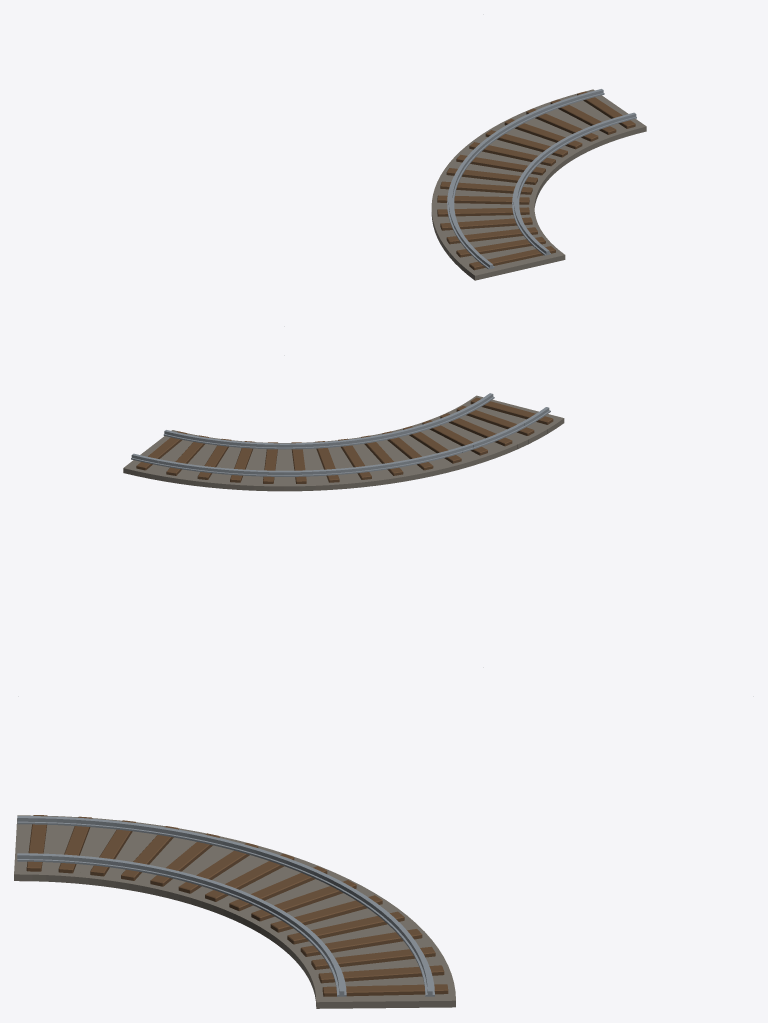
The model's file is rail_virage_large.glb.
The picture shows the model from 3 angles, top to bottom: view 1: azimuth 30°, elevation 25°; view 2: azimuth 150°, elevation 25°; view 3: azimuth 270°, elevation 25°; orthographic projection. The views are drawn at different scales.
Parts seen in each view (by area): view 1: rail_ballast.016, rail_traverse.018, rail_rail.018; view 2: rail_ballast.016, rail_traverse.018, rail_rail.018; view 3: rail_ballast.016, rail_traverse.018, rail_rail.018.
Boxes of the visible parts, <box> form: rail_ballast.016: <box>431,89,646,280</box>; rail_traverse.018: <box>437,91,635,270</box>; rail_rail.018: <box>447,89,636,269</box>; rail_ballast.016: <box>123,395,564,491</box>; rail_traverse.018: <box>136,397,553,483</box>; rail_rail.018: <box>131,393,550,476</box>; rail_ballast.016: <box>14,815,455,1008</box>; rail_traverse.018: <box>26,815,448,996</box>; rail_rail.018: <box>17,816,434,996</box>.
Size of the model in its own units: 5.03 by 0.12 by 5.03.
